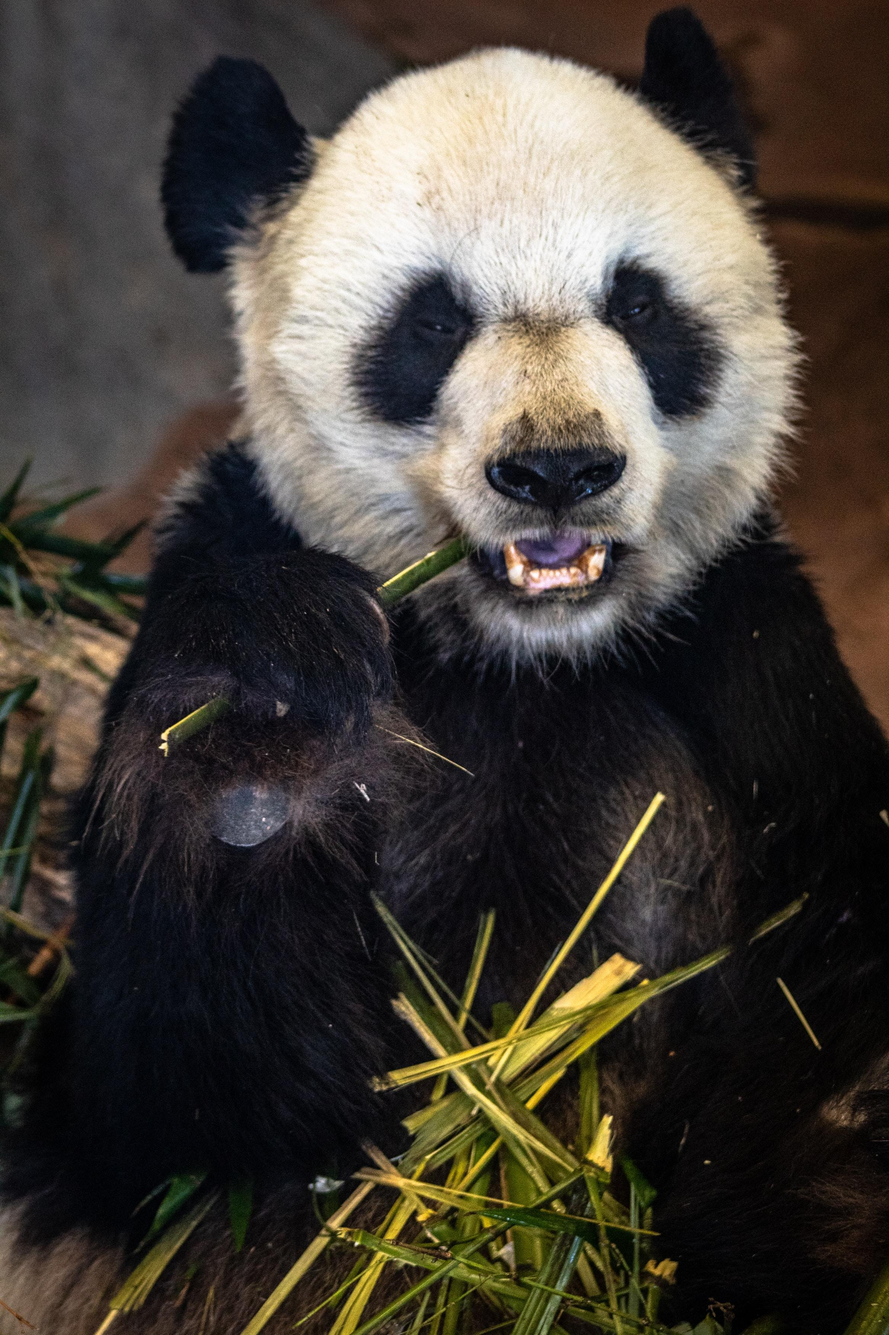panda: (77, 0, 889, 1240)
